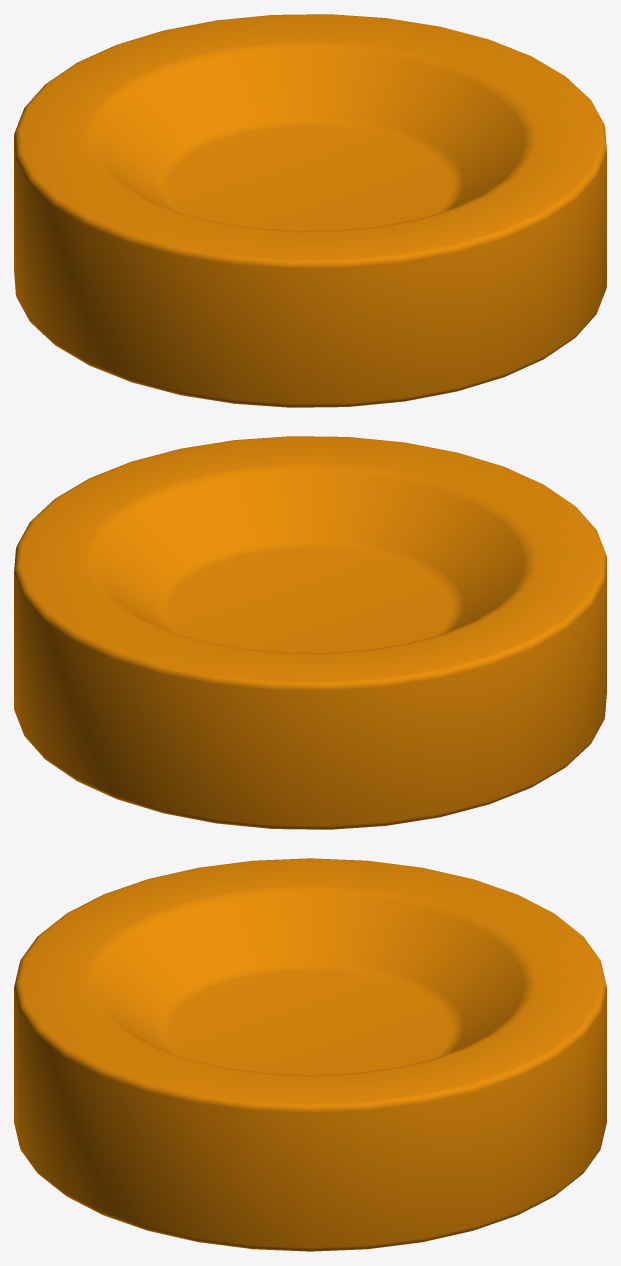
Rendered from coin.fbx.
3 renders of one model, top to bottom at view 1: azimuth 30°, elevation 25°; view 2: azimuth 150°, elevation 25°; view 3: azimuth 270°, elevation 25°, orthographic.
Visible parts, largest first — view 1: coin; view 2: coin; view 3: coin.
Boxes of the visible parts, box(x1,y1,x2,y2) form: coin: box(14, 14, 606, 407); coin: box(14, 436, 606, 829); coin: box(14, 858, 606, 1251).
Size of the model in its own units: 2 by 0.548 by 2.
